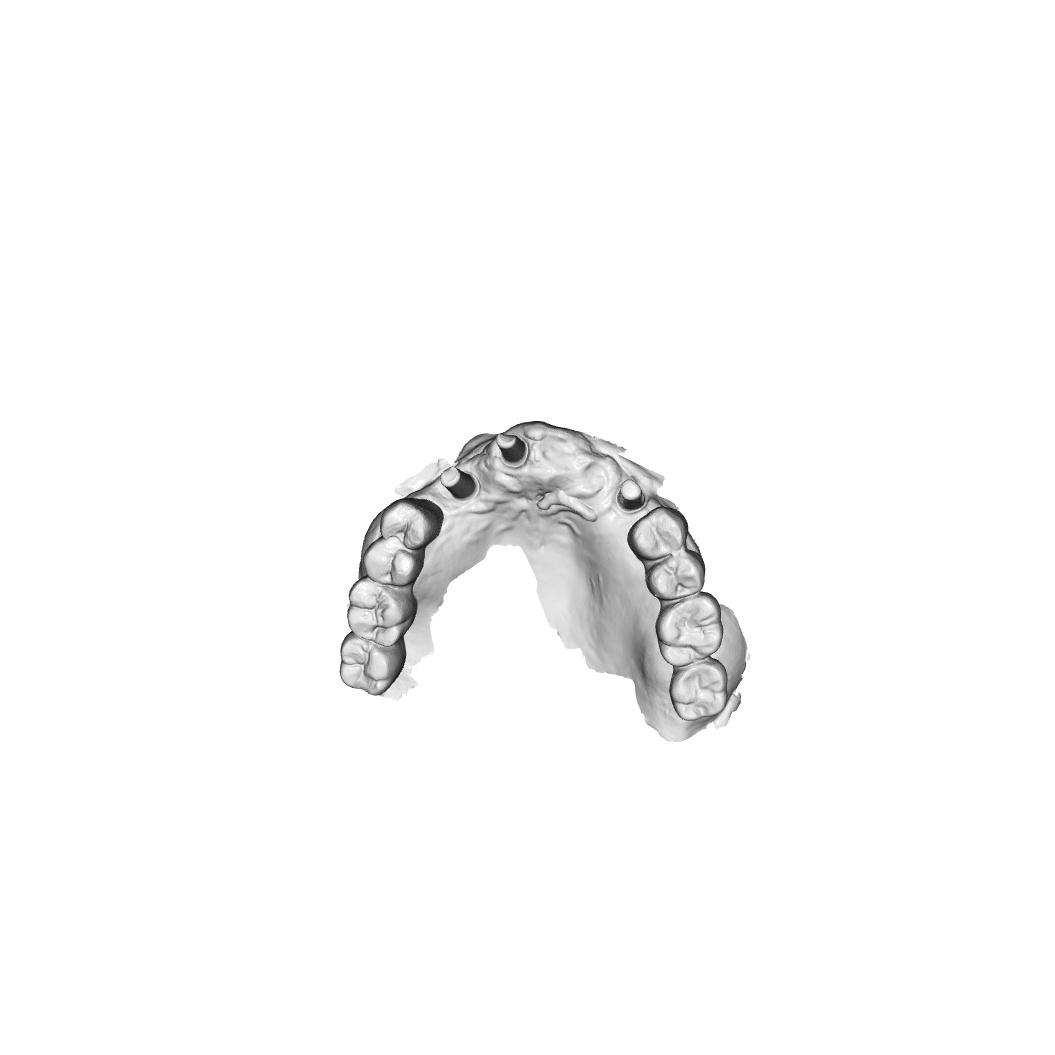abutment: (439, 464, 477, 501), (615, 477, 646, 513), (494, 430, 526, 463)
molar: (655, 590, 725, 668), (347, 575, 418, 650), (338, 632, 407, 696), (667, 658, 729, 722)
premolar: (626, 505, 689, 563), (379, 497, 443, 551), (361, 536, 424, 588), (645, 550, 707, 601)
